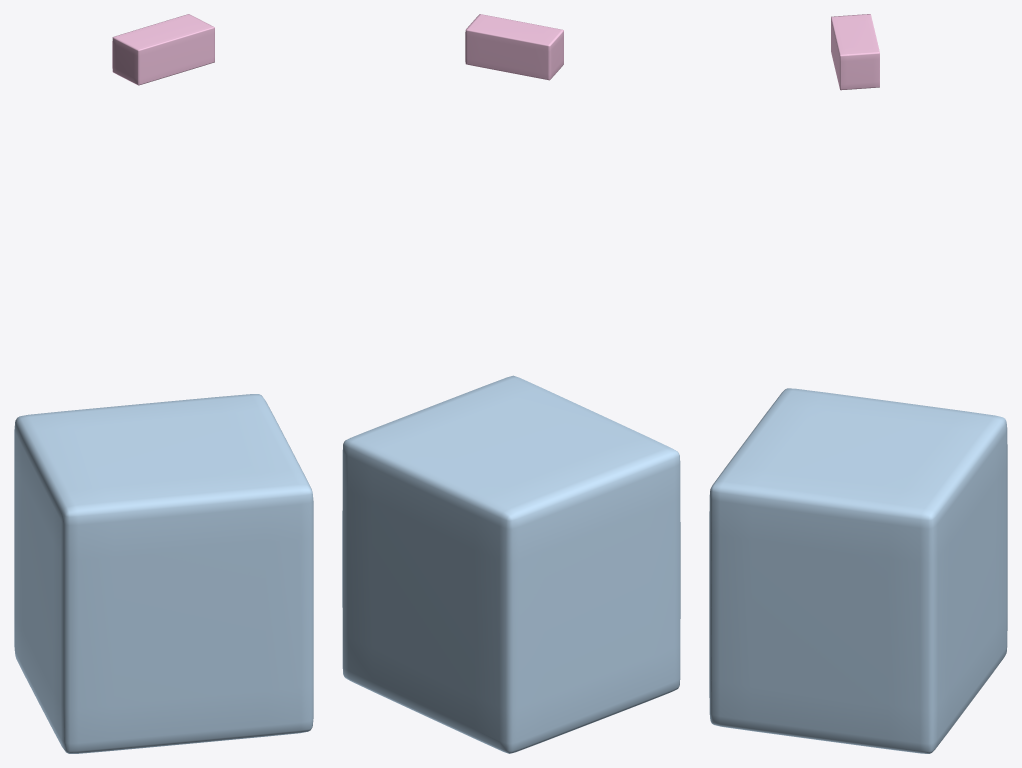
The model's file is PROP_Frisbee_v1.glb.
The picture shows the model from 3 angles, left to right: view 1: azimuth 30°, elevation 25°; view 2: azimuth 150°, elevation 25°; view 3: azimuth 270°, elevation 25°; orthographic projection.
Parts seen in each view (by area): view 1: PROP_Frisbee_v1; view 2: PROP_Frisbee_v1; view 3: PROP_Frisbee_v1.
Boxes of the visible parts, <box> form: PROP_Frisbee_v1: <box>14,14,313,753</box>; PROP_Frisbee_v1: <box>342,14,680,753</box>; PROP_Frisbee_v1: <box>709,14,1007,753</box>.
Bounding box in the file's own units: 1.2 × 2.82 × 1.16.
